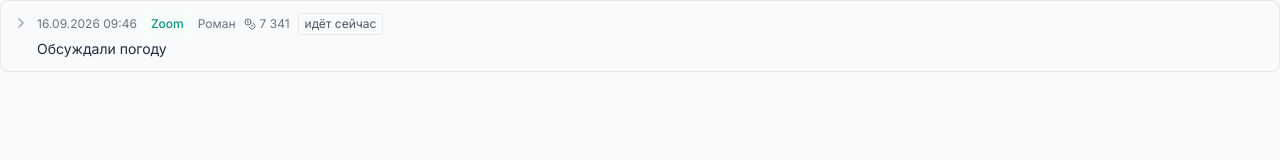
Test: CallSessionItem › расшифровка перечитывается, когда сессия сменила состояние
The width and height of the screenshot is (1280, 160).
Click the button. click: (87, 24)
box: [13, 13, 383, 57]
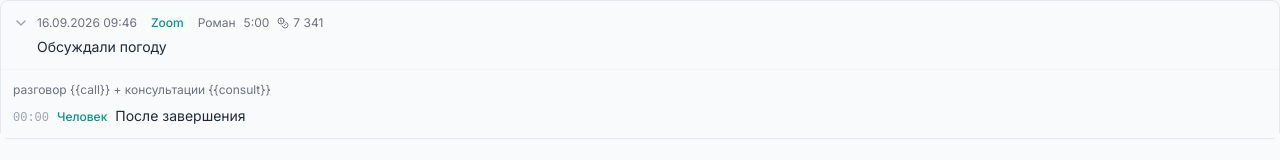
Expected: the text "После завершения" is shown, [115, 107, 246, 124]
